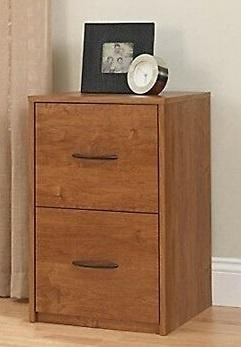cabinet_door: (38, 208, 161, 328), (38, 106, 159, 211)
handle: (71, 148, 120, 167), (72, 259, 121, 274)
